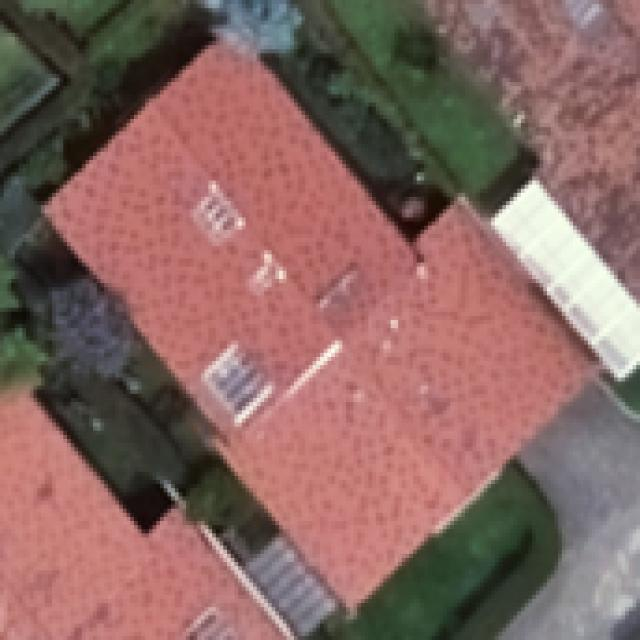Batiment: (45, 43, 596, 607), (0, 389, 284, 639)
